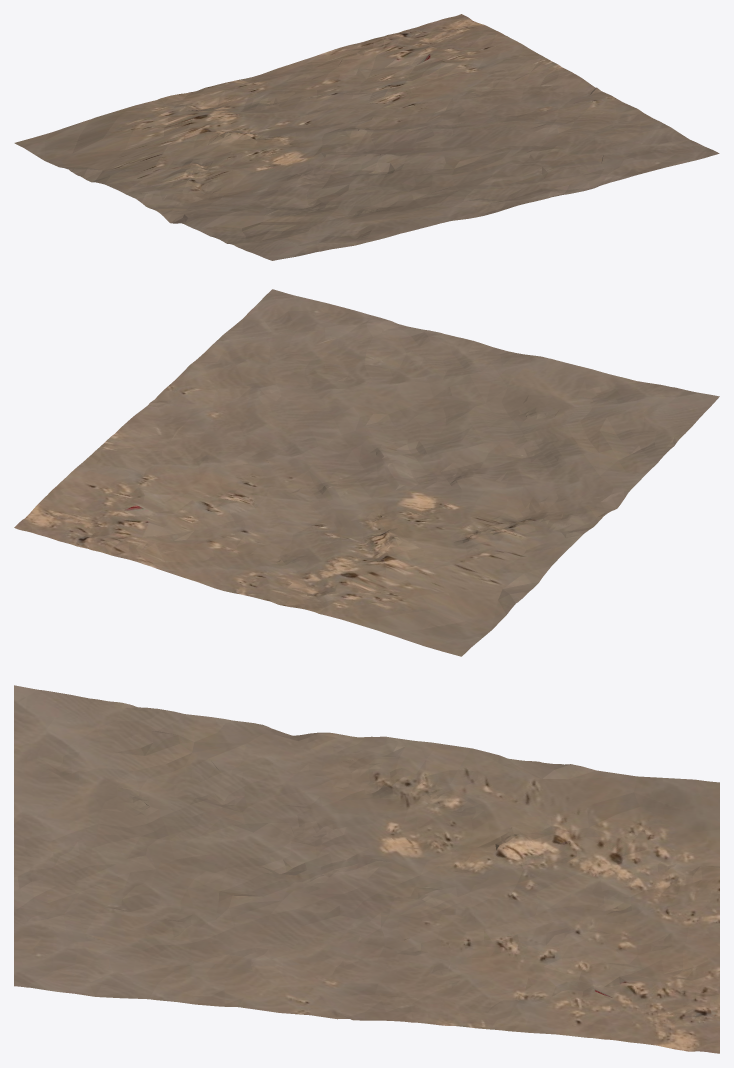
3 views of the same model, one above another, from view 1: azimuth 30°, elevation 25°; view 2: azimuth 150°, elevation 25°; view 3: azimuth 270°, elevation 25° (orthographic). The views are drawn at different scales.
Bounding box in the file's own units: 8.36 × 1.27 × 8.36.
3 materials, 3 textured.
